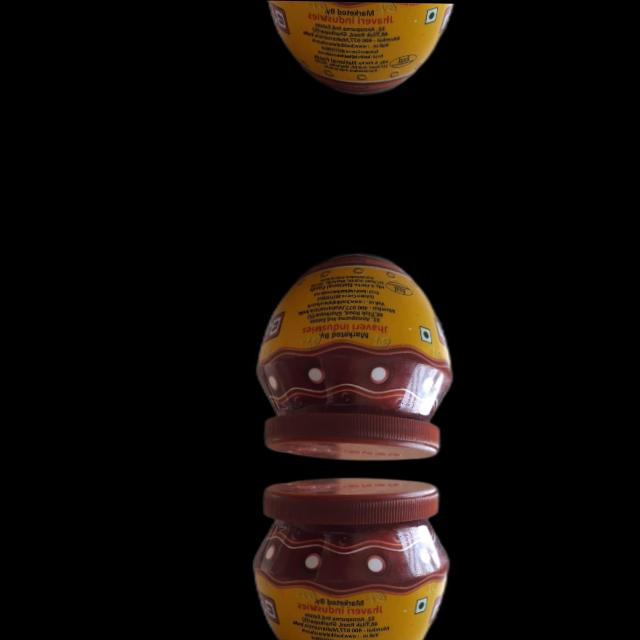Badshah Afgani Hing: (253, 249, 457, 462), (249, 475, 452, 640), (259, 0, 461, 97)
